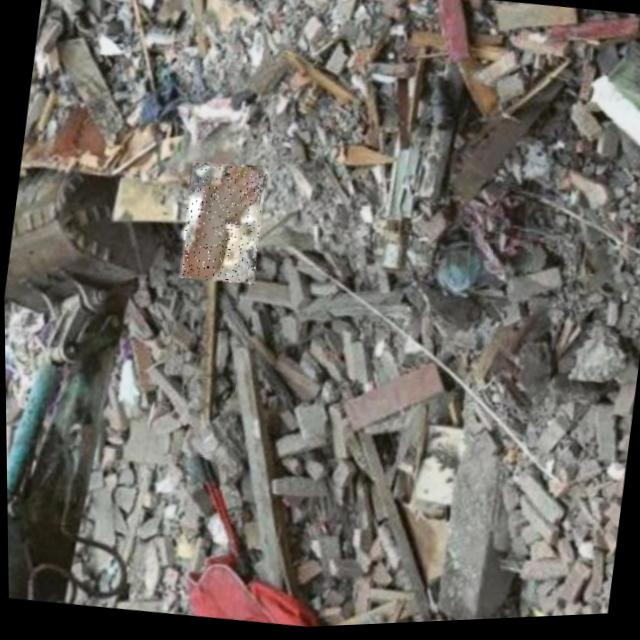Person in Rubble: (176, 159, 269, 288)
